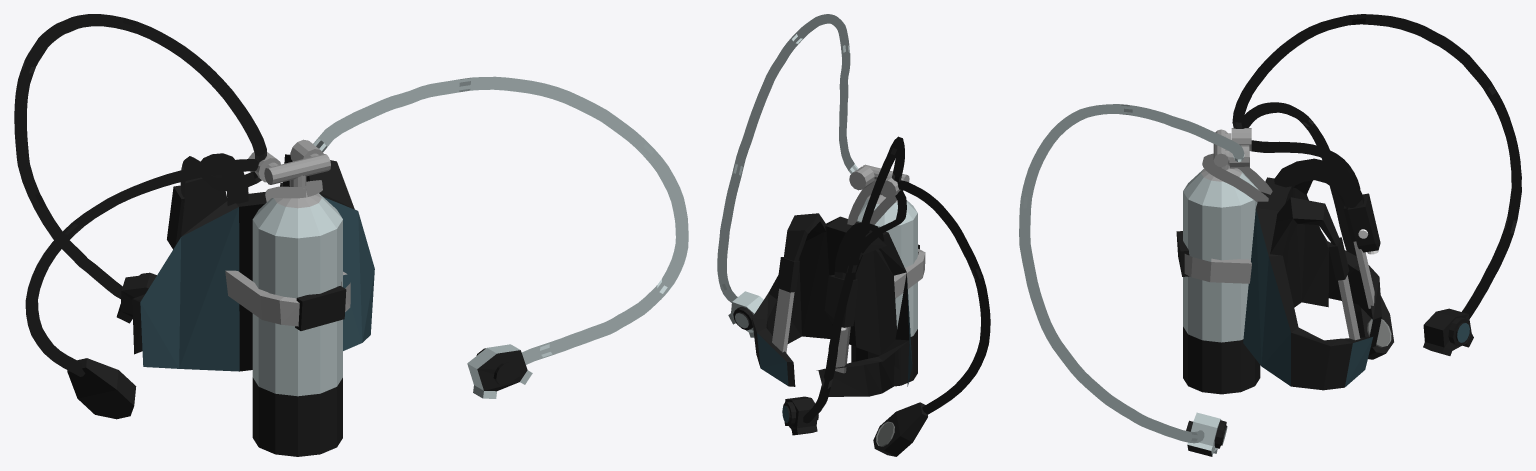
The model's file is summer-scuba-equipment.glb.
3 views of the same model, side by side, from view 1: azimuth 30°, elevation 25°; view 2: azimuth 150°, elevation 25°; view 3: azimuth 270°, elevation 25° (orthographic). The views are drawn at different scales.
Visible parts, largest first — view 1: Steren Giannini / imported BCD cylinder and regulators; view 2: Steren Giannini / imported BCD cylinder and regulators; view 3: Steren Giannini / imported BCD cylinder and regulators.
Part boxes in pixels (bbox=[...]): Steren Giannini / imported BCD cylinder and regulators: bbox=[14, 14, 688, 456]; Steren Giannini / imported BCD cylinder and regulators: bbox=[717, 14, 990, 456]; Steren Giannini / imported BCD cylinder and regulators: bbox=[1019, 14, 1521, 456].
Bounding box in the file's own units: 1.71 × 1.34 × 1.76.
